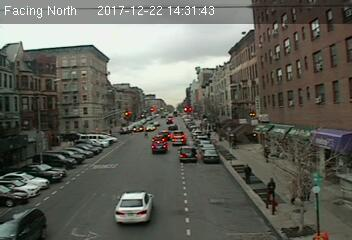car: (114, 191, 155, 223), (178, 146, 198, 162), (202, 149, 221, 163), (151, 141, 168, 154), (171, 133, 185, 144)
pedestrian: (242, 164, 255, 187), (267, 176, 277, 204)
